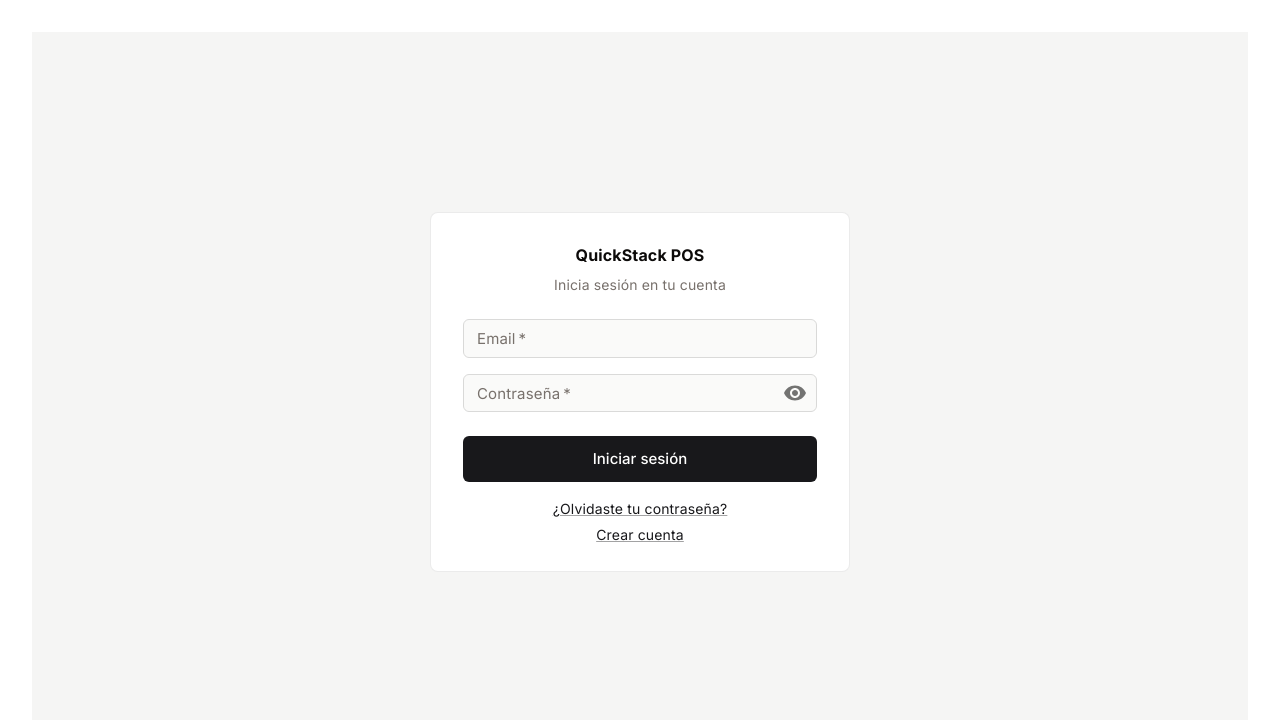
Scenario: LoginPage › muestra error 401 — credenciales incorrectas
The width and height of the screenshot is (1280, 720).
Type "owner@test.com" into the field labelled "Email *" at (640, 338), box x1=463 y1=319 x2=817 y2=358
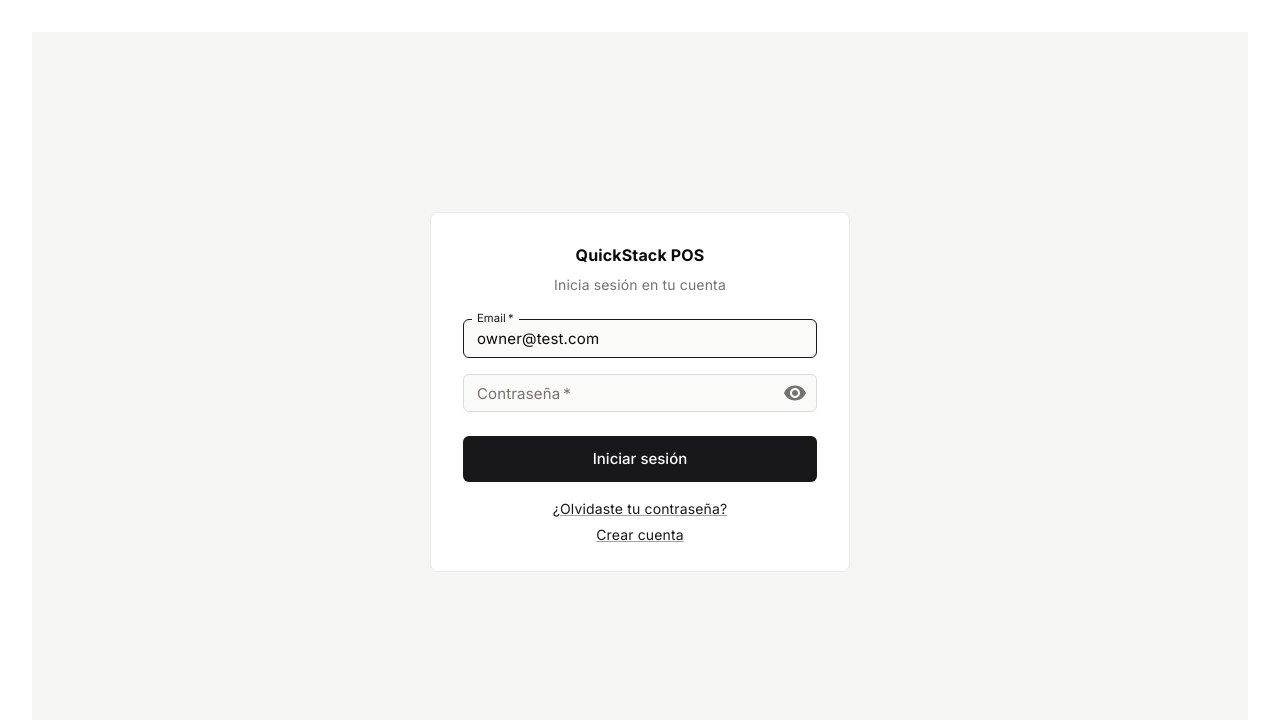
Type "SecurePass123!" into the password field with test id "password-input" at (615, 393), box x1=463 y1=374 x2=767 y2=412
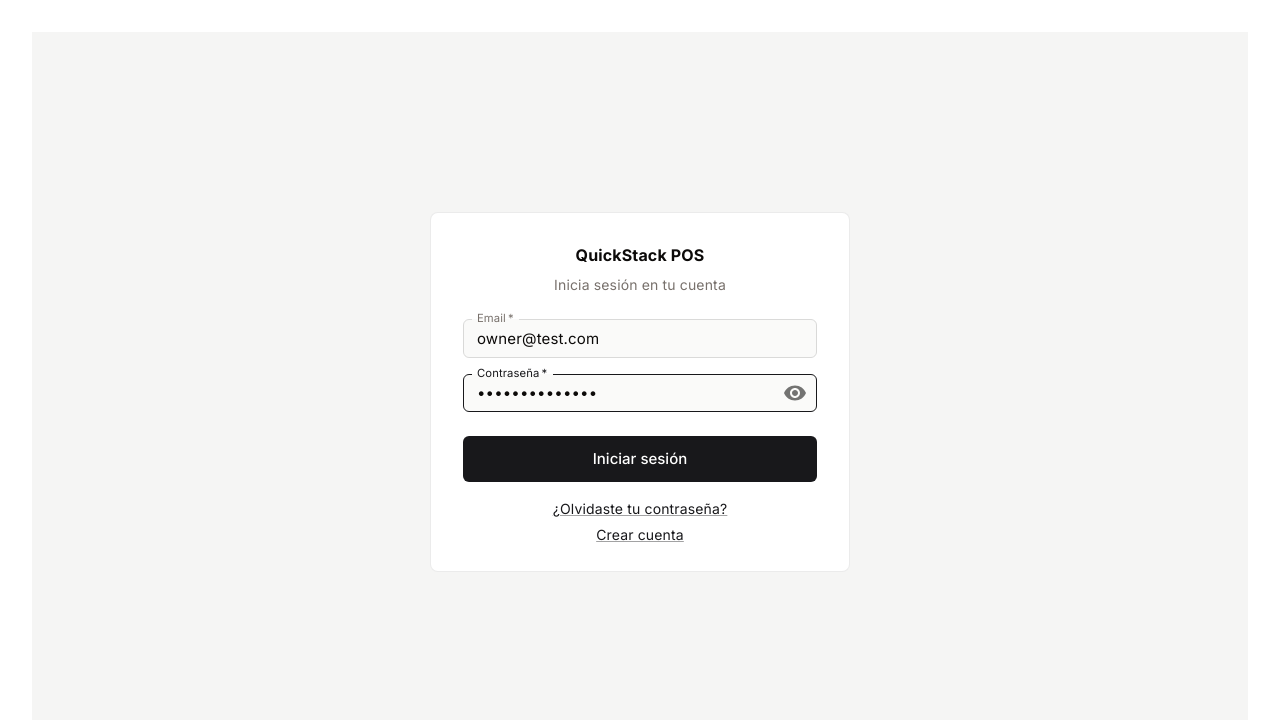
Click the button "Iniciar sesión" at (640, 459), box x1=463 y1=436 x2=817 y2=482
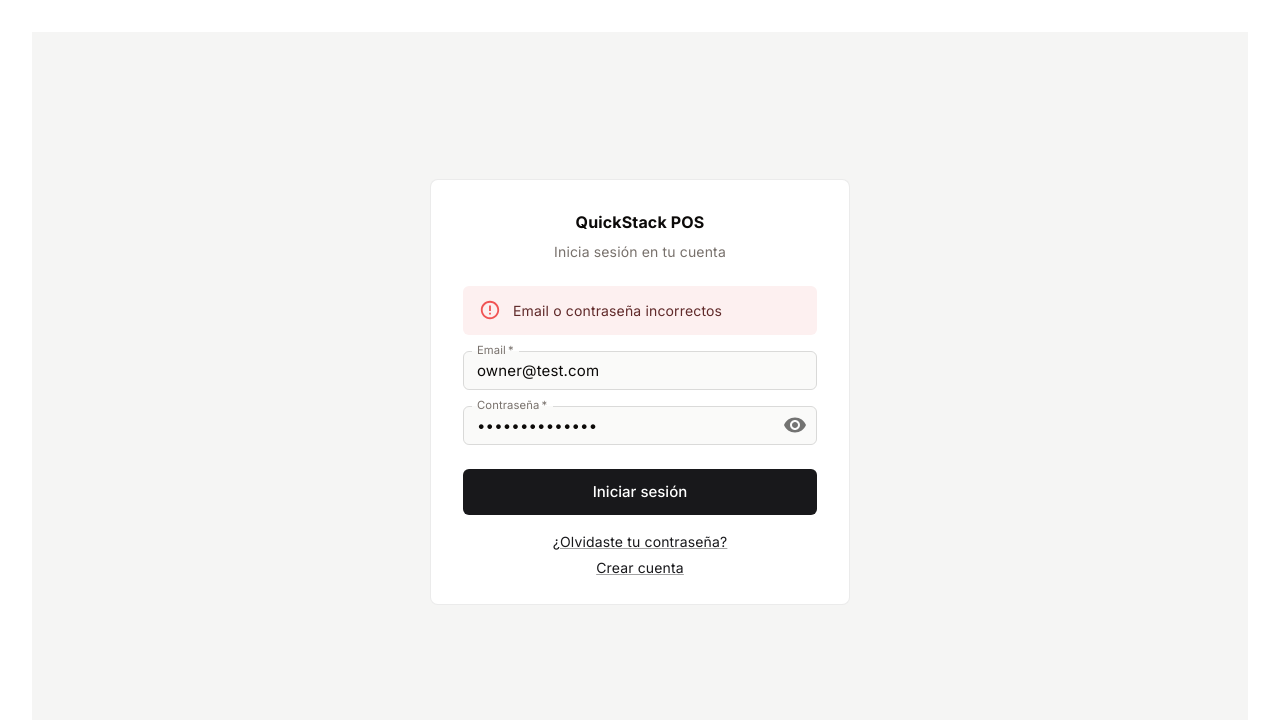
Check: the message reads "Email o contraseña incorrectos", box x1=513 y1=302 x2=722 y2=320
